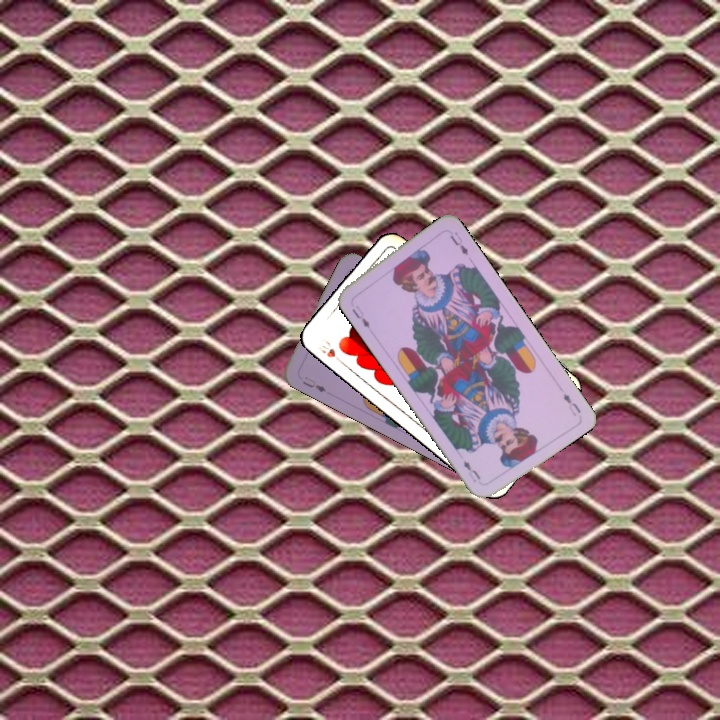EU: (348, 301, 372, 331), (559, 389, 583, 419), (298, 372, 329, 395)
H10: (313, 336, 346, 367)
